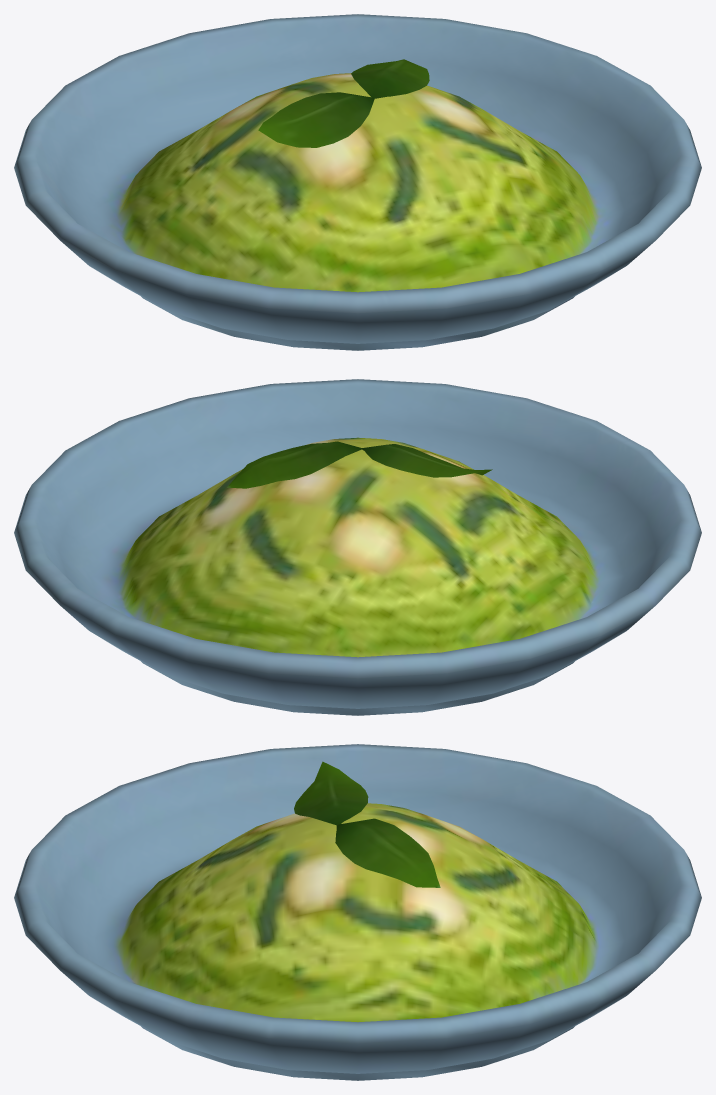
3 views of the same model, one above another, from view 1: azimuth 30°, elevation 25°; view 2: azimuth 150°, elevation 25°; view 3: azimuth 270°, elevation 25° (orthographic).
Bounding box in the file's own units: 7.2 × 1.88 × 7.2.
Materials: 1 (1 with a texture image).
